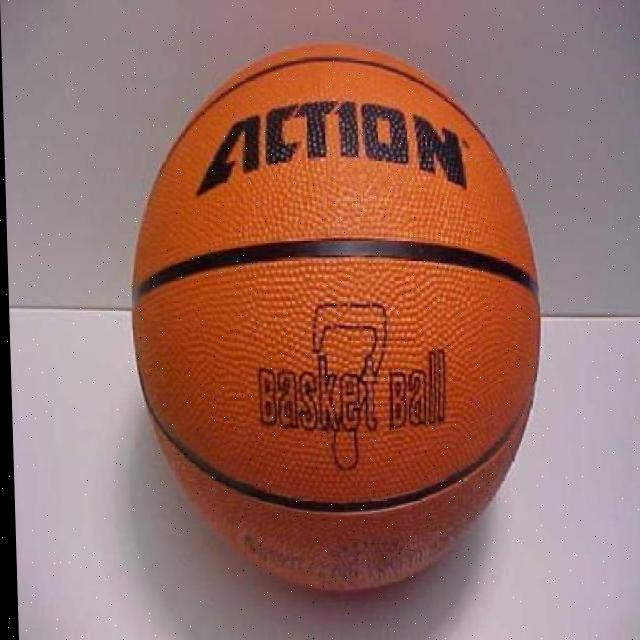Basketball: (122, 42, 548, 589)
